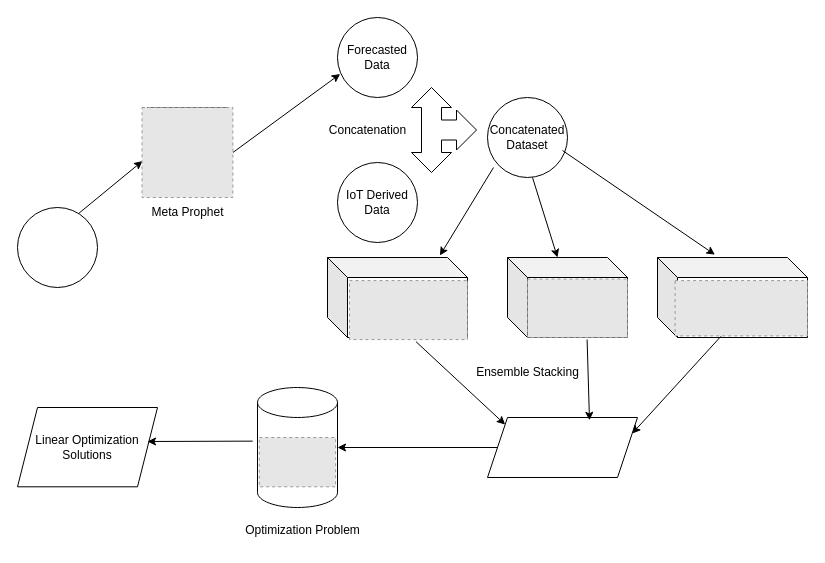
This 825x563 diagram has some shape labels left out. Grey dashed boxes stand in for pictures. Each missing label, with the centre of its shape:
"Bayesian Estimation" goes at (x=562, y=447).
"Time Series Data" goes at (x=57, y=247).
